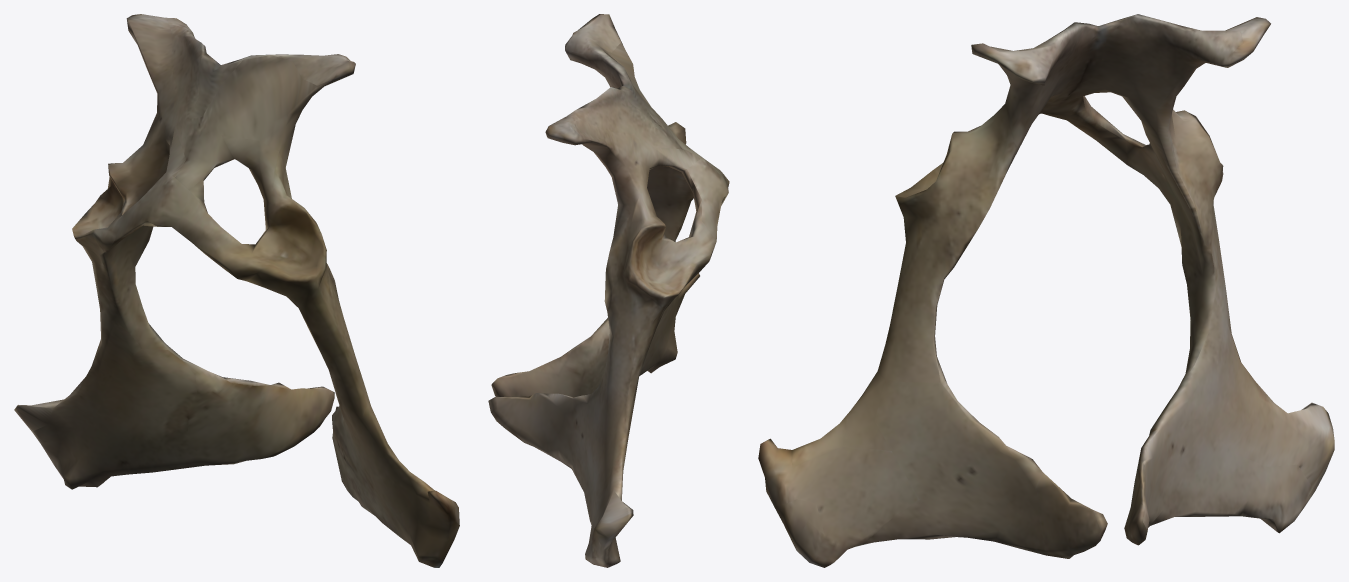
File: pelve-equina.glb
The picture shows the model from 3 angles, left to right: view 1: azimuth 30°, elevation 25°; view 2: azimuth 150°, elevation 25°; view 3: azimuth 270°, elevation 25°; orthographic projection. The views are drawn at different scales.
Parts seen in each view (by area): view 1: 3DModel_LowPoly; view 2: 3DModel_LowPoly; view 3: 3DModel_LowPoly.
Boxes of the visible parts, <box> form: 3DModel_LowPoly: <box>14,14,459,567</box>; 3DModel_LowPoly: <box>488,14,729,567</box>; 3DModel_LowPoly: <box>758,14,1334,567</box>.
Bounding box in the file's own units: 1.9 × 3.48 × 3.28.
Materials: 1 (1 with a texture image).
